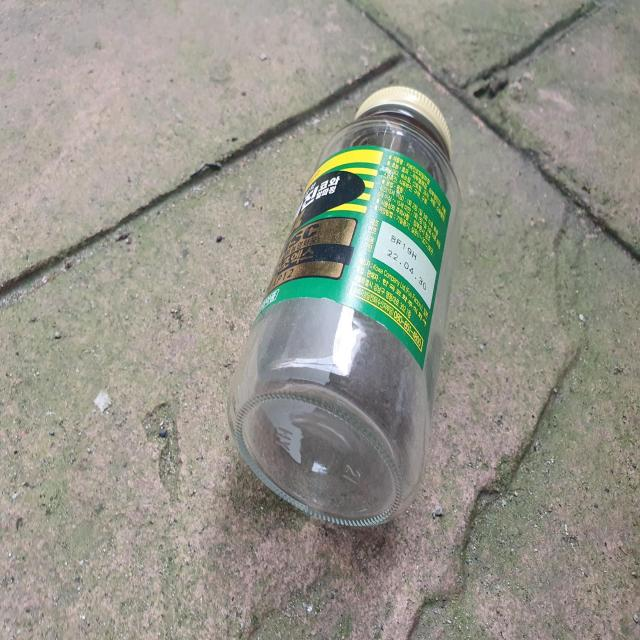glass: (228, 86, 461, 526)
